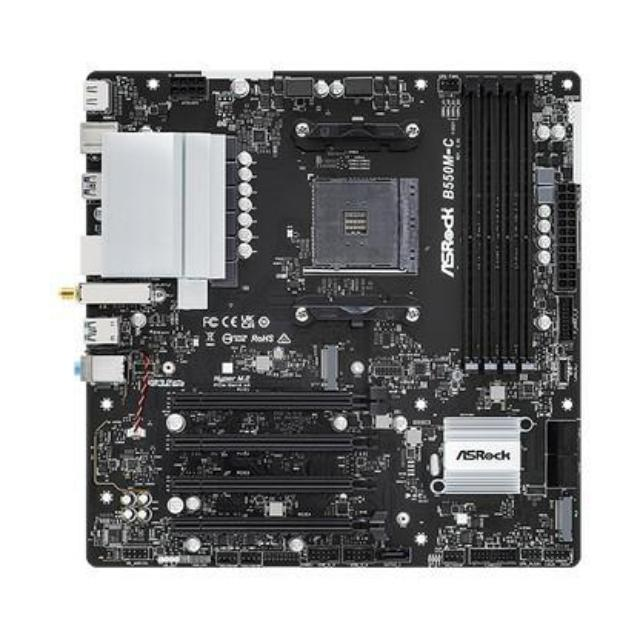Mainboard: (70, 55, 598, 582)
